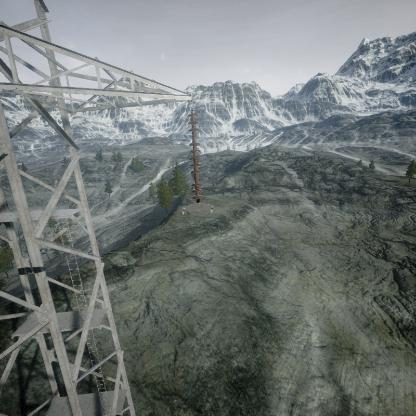insulator: (186, 107, 203, 202)
